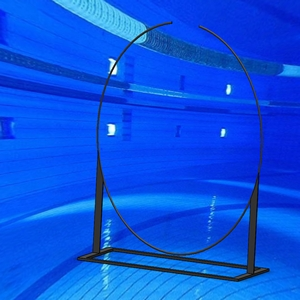circle: (76, 19, 271, 284)
